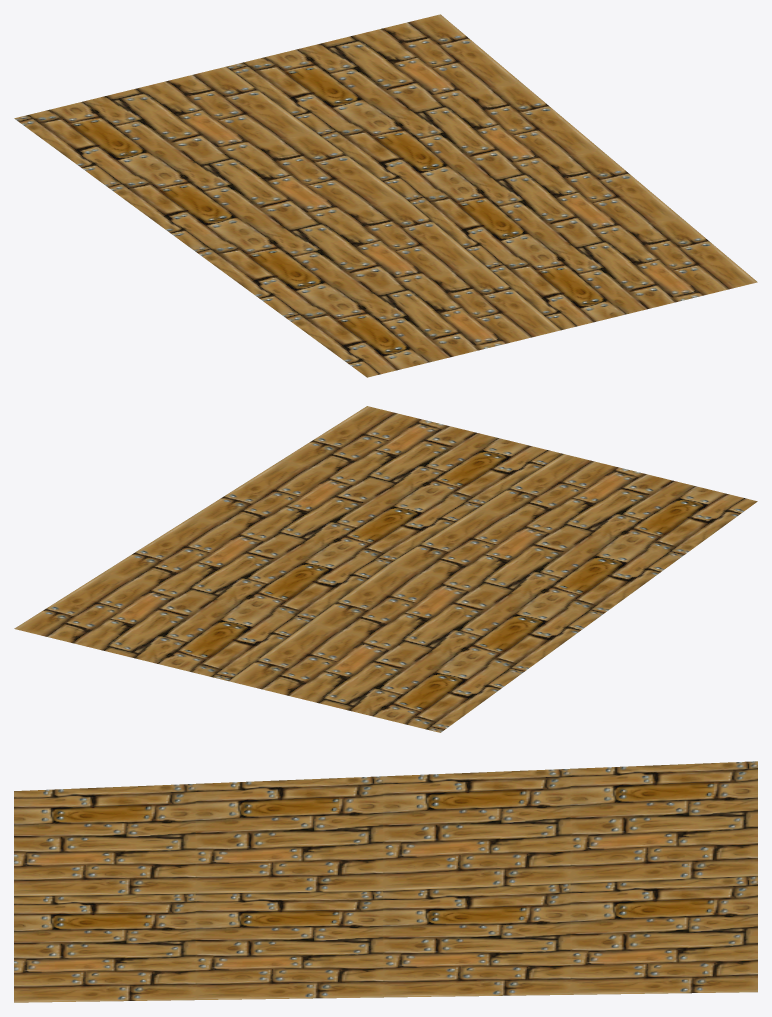
Rendered from Schiff_BodenLaderaum_1284.glb.
3 views of the same model, one above another, from view 1: azimuth 30°, elevation 25°; view 2: azimuth 150°, elevation 25°; view 3: azimuth 270°, elevation 25° (orthographic). The views are drawn at different scales.
Visible parts, largest first — view 1: pPlaneShape53; view 2: pPlaneShape53; view 3: pPlaneShape53.
Boxes of the visible parts, box(x1,y1,x2,y2) form: pPlaneShape53: box(14, 14, 757, 377); pPlaneShape53: box(14, 406, 757, 732); pPlaneShape53: box(14, 761, 757, 1002).
Size of the model in its own units: 1.26 by 0.0514 by 1.72.
1 material, 1 textured.
